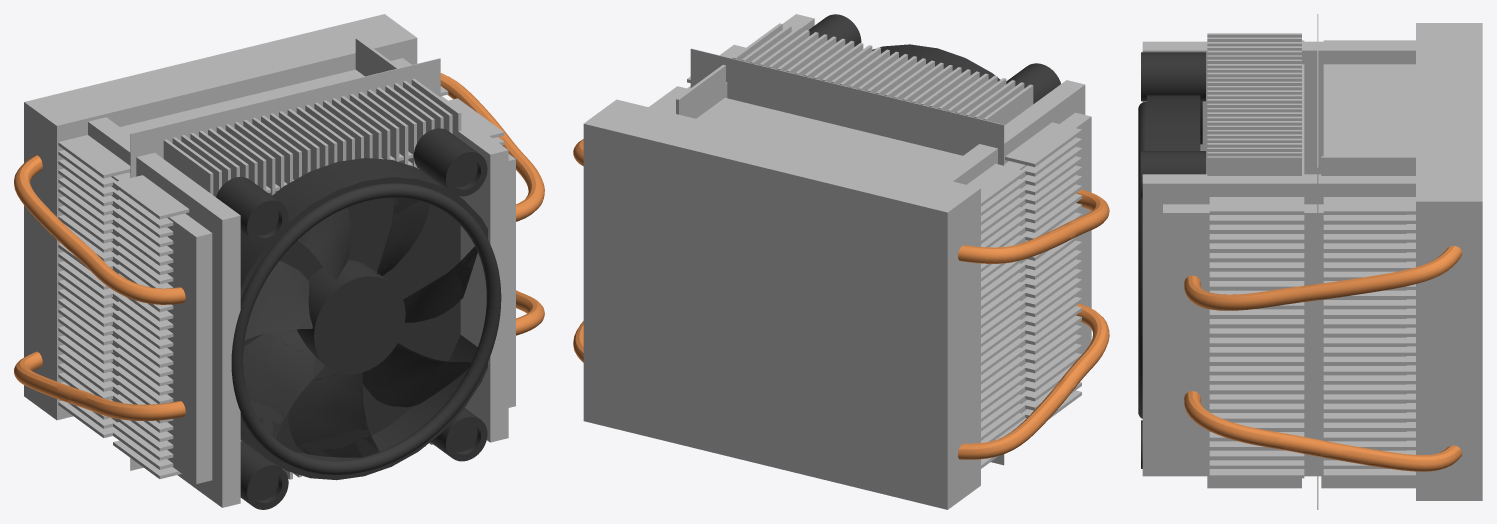
The model's file is 9_XL_190_CPU.glb.
3 renders of one model, left to right at view 1: azimuth 30°, elevation 25°; view 2: azimuth 150°, elevation 25°; view 3: azimuth 270°, elevation 25°, orthographic.
Visible parts, largest first — view 1: Circle048_1, Circle048, Circle048_2; view 2: Circle048_1, Circle048_2, Circle048; view 3: Circle048_1, Circle048_2, Circle048.
Part boxes in pixels (x1=…): Circle048_1: x1=24, y1=14, x2=515, y2=507; Circle048: x1=216, y1=128, x2=501, y2=509; Circle048_2: x1=14, y1=73, x2=544, y2=420; Circle048_1: x1=583, y1=14, x2=1091, y2=509; Circle048_2: x1=573, y1=139, x2=1109, y2=459; Circle048: x1=808, y1=14, x2=1060, y2=103; Circle048_1: x1=1142, y1=14, x2=1482, y2=509; Circle048_2: x1=1184, y1=246, x2=1462, y2=471; Circle048: x1=1138, y1=52, x2=1205, y2=468.
Bounding box in the file's own units: 0.4155 × 0.2997 × 0.2733.
